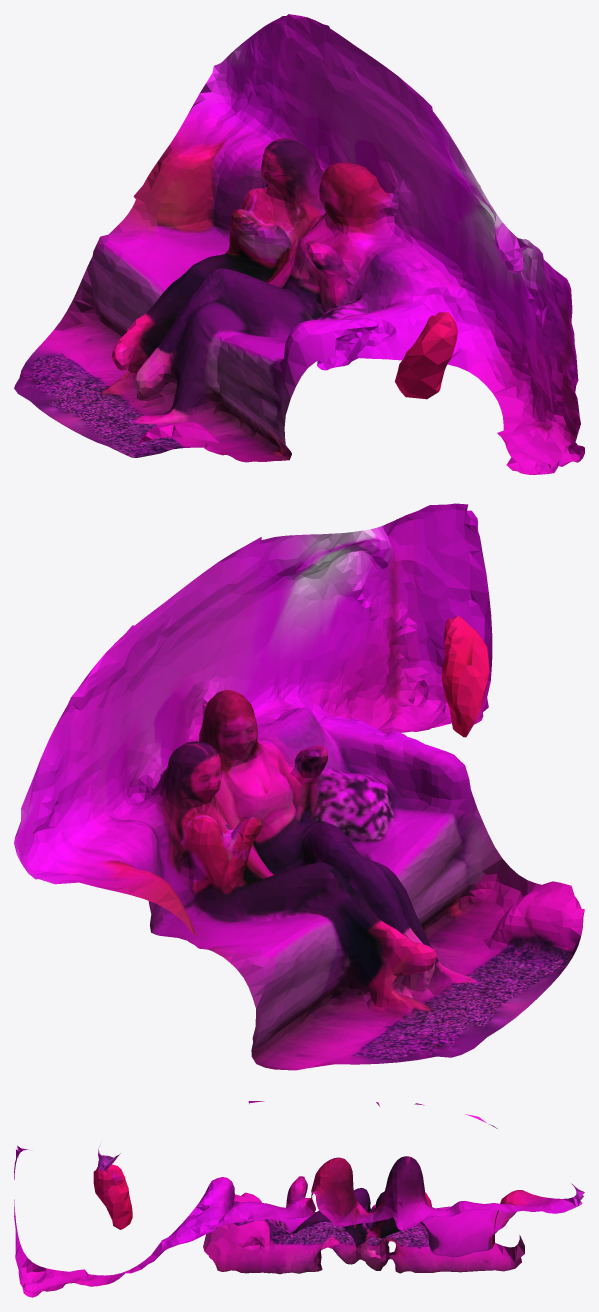
The model's file is mbo_friends_AnnalieseRiya.glb.
3 renders of one model, top to bottom at view 1: azimuth 30°, elevation 25°; view 2: azimuth 150°, elevation 25°; view 3: azimuth 270°, elevation 25°, orthographic. The views are drawn at different scales.
Size of the model in its own units: 1.67 by 1.54 by 3.37.
1 material, 1 textured.
